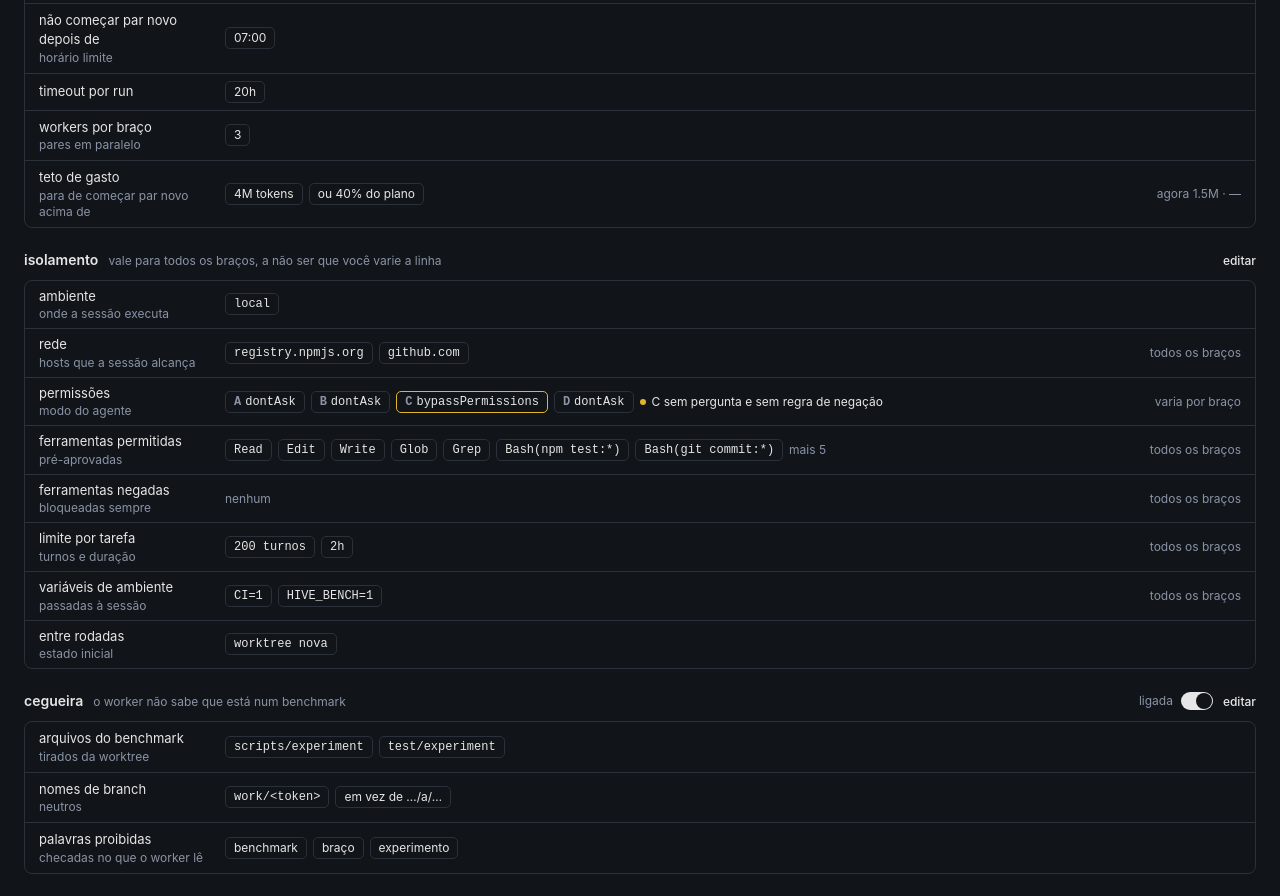
Test case: 12 allowed tools read 7 pills and mais 5; mais shows all 12 and turns into menos (#537)
(page scrolled)
Click the button "mais 5" at (808, 450), box [789,442,826,458]
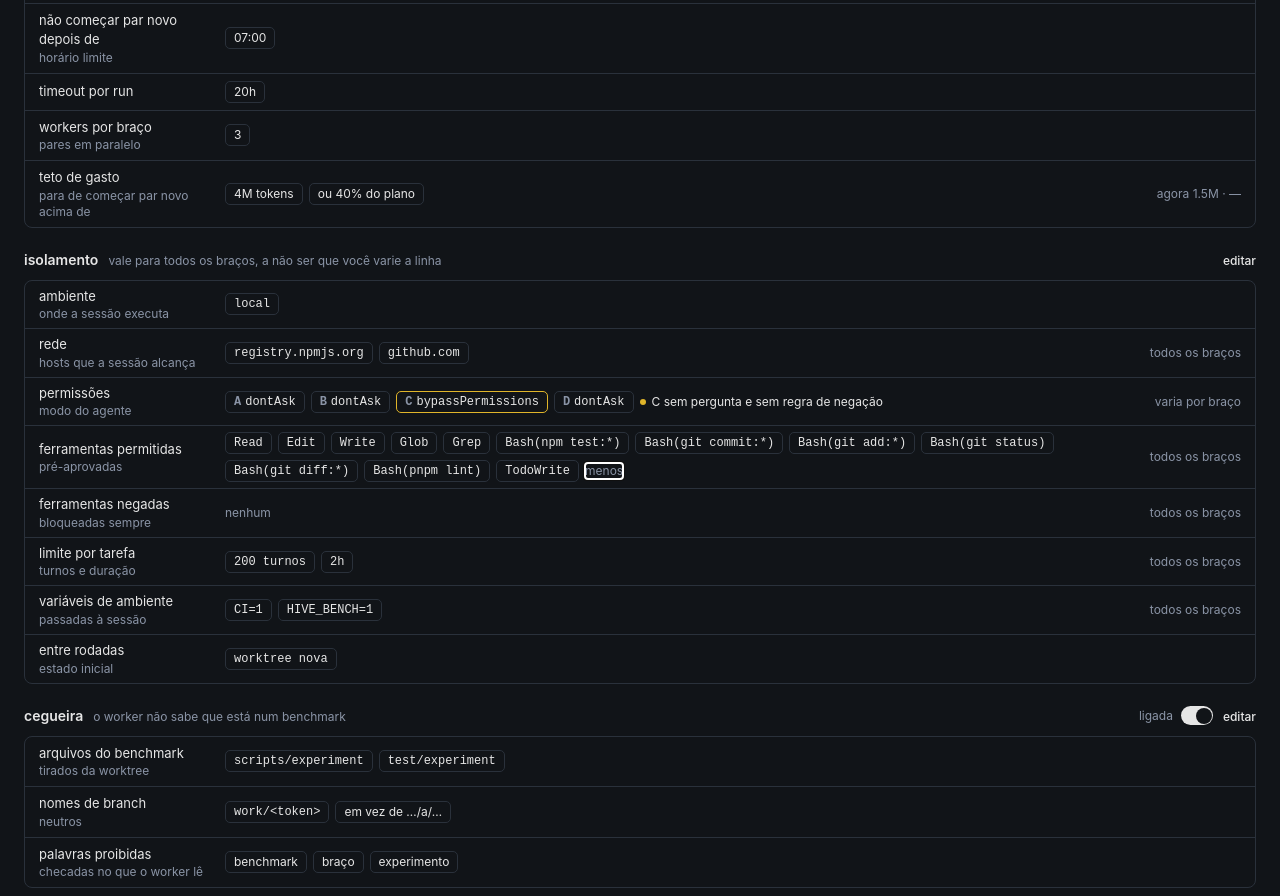
Expected: the button "menos" is expanded, [585,463,623,479]
